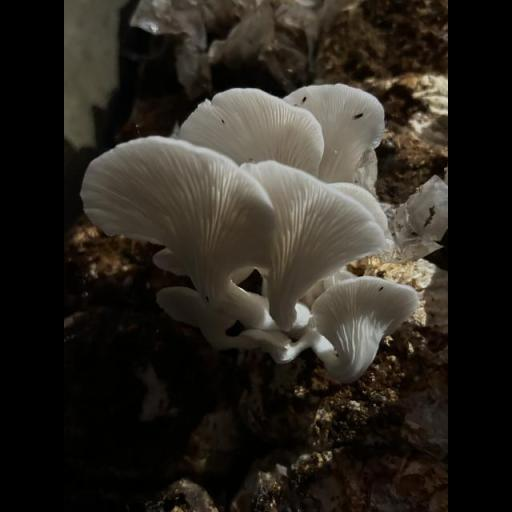White Oyster Mushroom: (75, 74, 446, 387)
